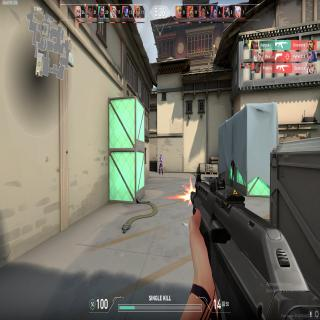ENEMY-BODY: (159, 154, 163, 176)
ENEMY-HEAD: (160, 154, 162, 157)
